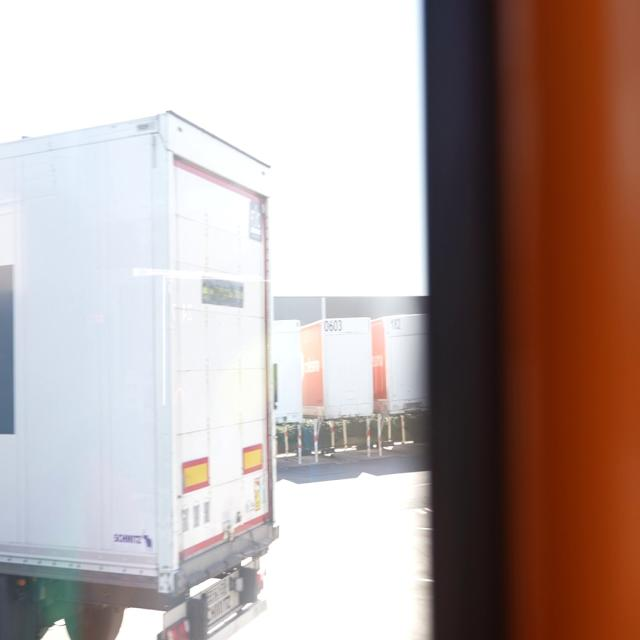Code: (324, 315, 345, 339), (386, 312, 404, 338)
